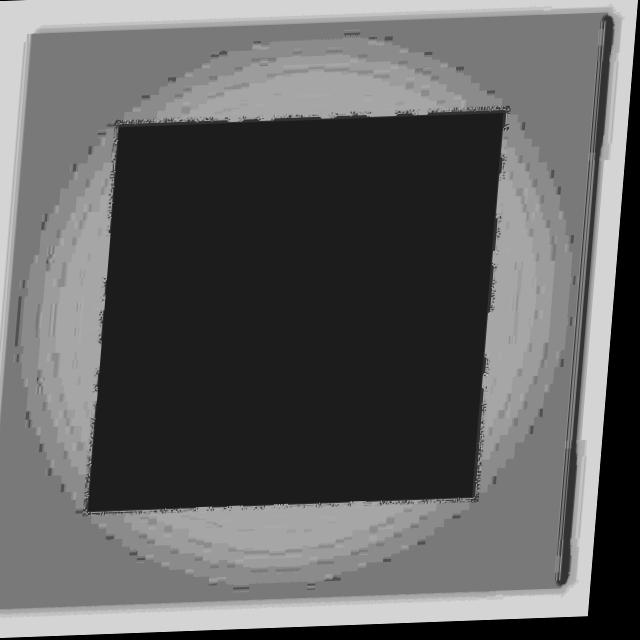qr_code: (98, 116, 506, 511)
